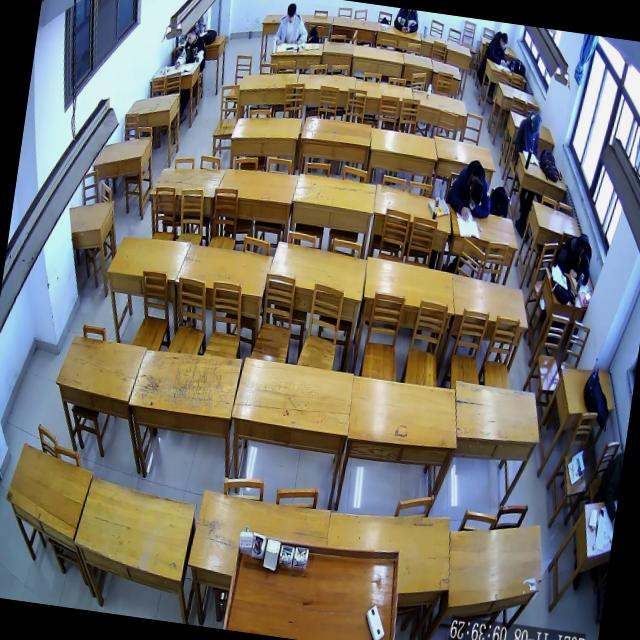bow: (444, 157, 496, 224), (555, 230, 595, 286)
down: (468, 178, 484, 206), (530, 112, 542, 133), (286, 2, 296, 23), (186, 27, 196, 46), (498, 33, 508, 51)
sit: (274, 1, 312, 48), (174, 24, 210, 70), (514, 110, 542, 156), (484, 30, 514, 68)
